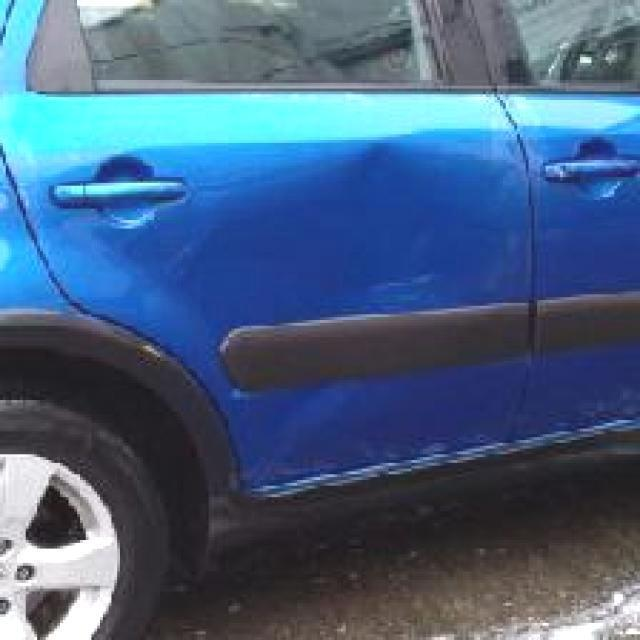minor: (207, 134, 528, 319)
